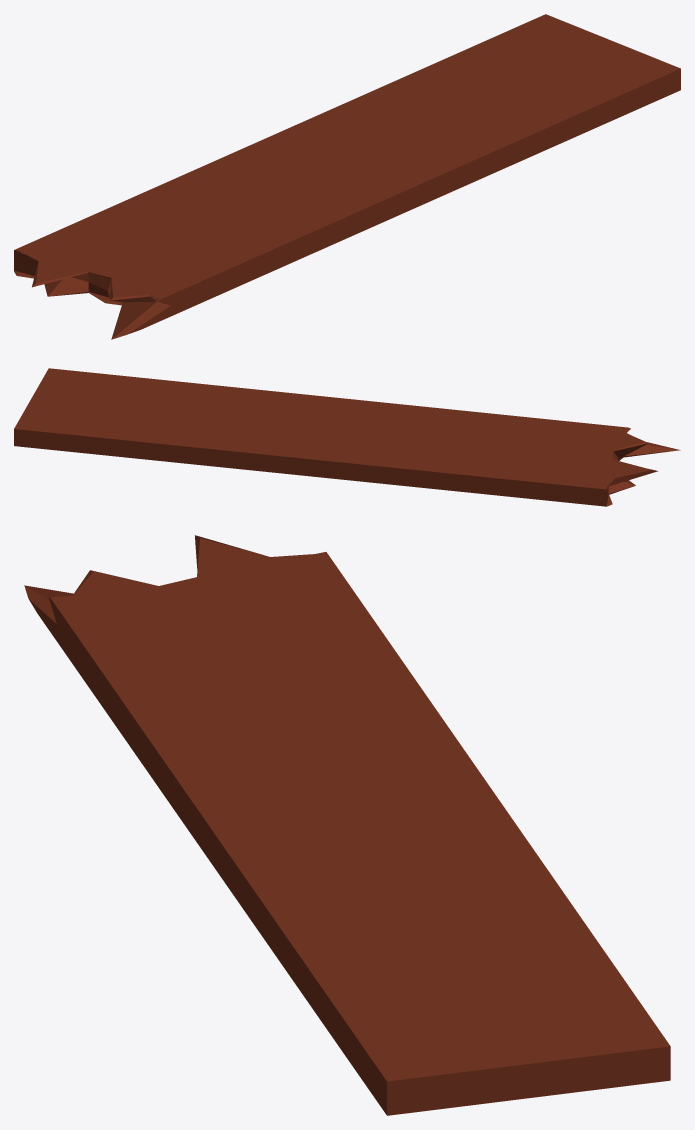
File: BrokenWood_03.fbx
The picture shows the model from 3 angles, top to bottom: view 1: azimuth 30°, elevation 25°; view 2: azimuth 150°, elevation 25°; view 3: azimuth 270°, elevation 25°; orthographic projection. The views are drawn at different scales.
Visible parts, largest first — view 1: Cube.006; view 2: Cube.006; view 3: Cube.006.
Boxes of the visible parts, x1,y1,x2,y2 form: Cube.006: [14, 14, 680, 339]; Cube.006: [14, 368, 680, 506]; Cube.006: [24, 535, 670, 1115].
Size of the model in its own units: 338 by 9.86 by 168.
